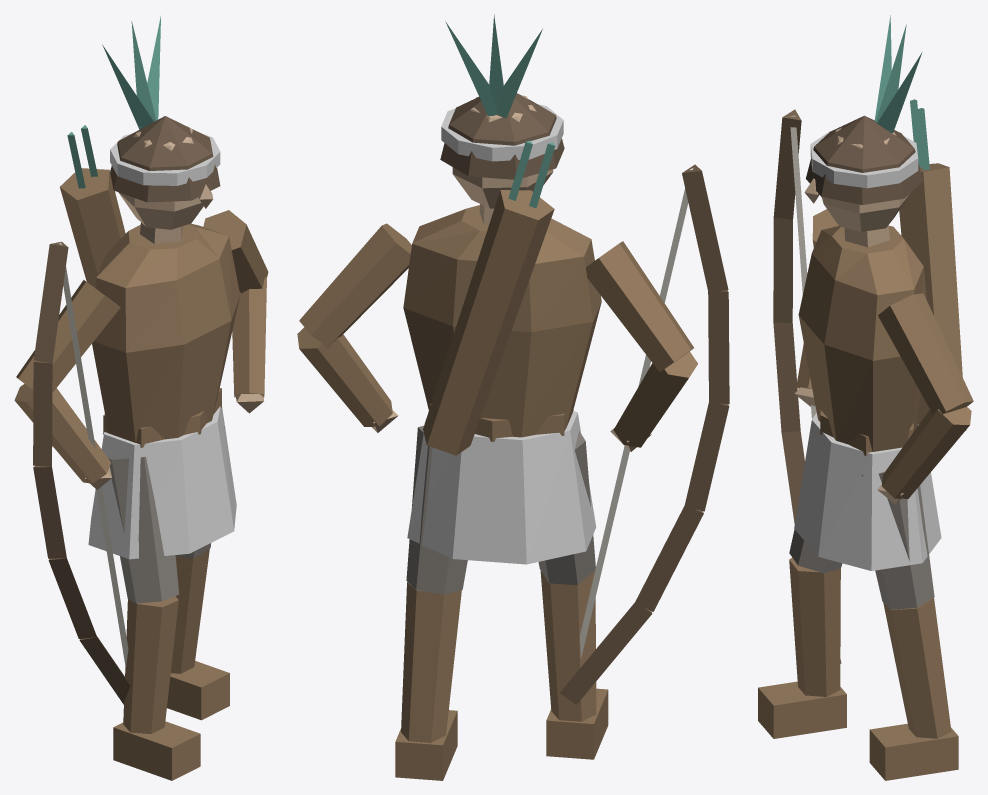
File: pathfinder.glb
The picture shows the model from 3 angles, left to right: view 1: azimuth 30°, elevation 25°; view 2: azimuth 150°, elevation 25°; view 3: azimuth 270°, elevation 25°; orthographic projection. The views are drawn at different scales.
Parts seen in each view (by area): view 1: LOD0; view 2: LOD0; view 3: LOD0.
Part boxes in pixels (left/top/right/bottom): LOD0: left=14, top=16, right=268, bottom=780; LOD0: left=297, top=14, right=729, bottom=780; LOD0: left=758, top=15, right=973, bottom=780.
Size of what is drawn, in the model's own units: 0.5239 by 1.11 by 0.3038.
